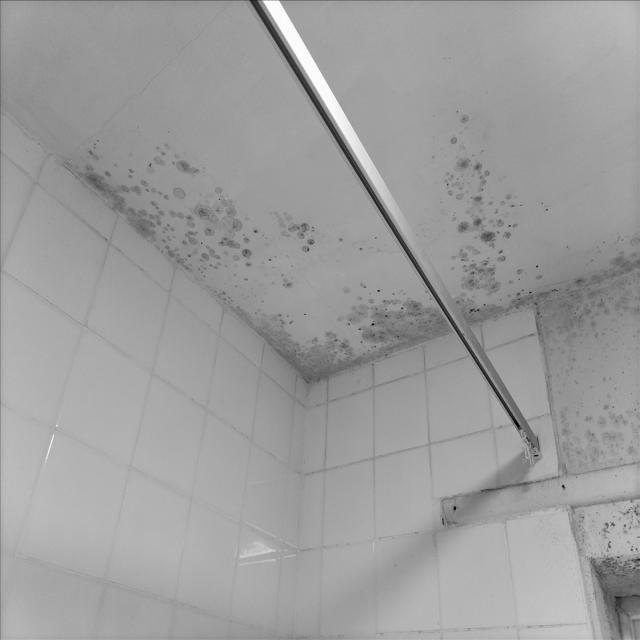stain marks: (58, 106, 452, 412), (532, 196, 640, 593), (429, 80, 538, 320)
